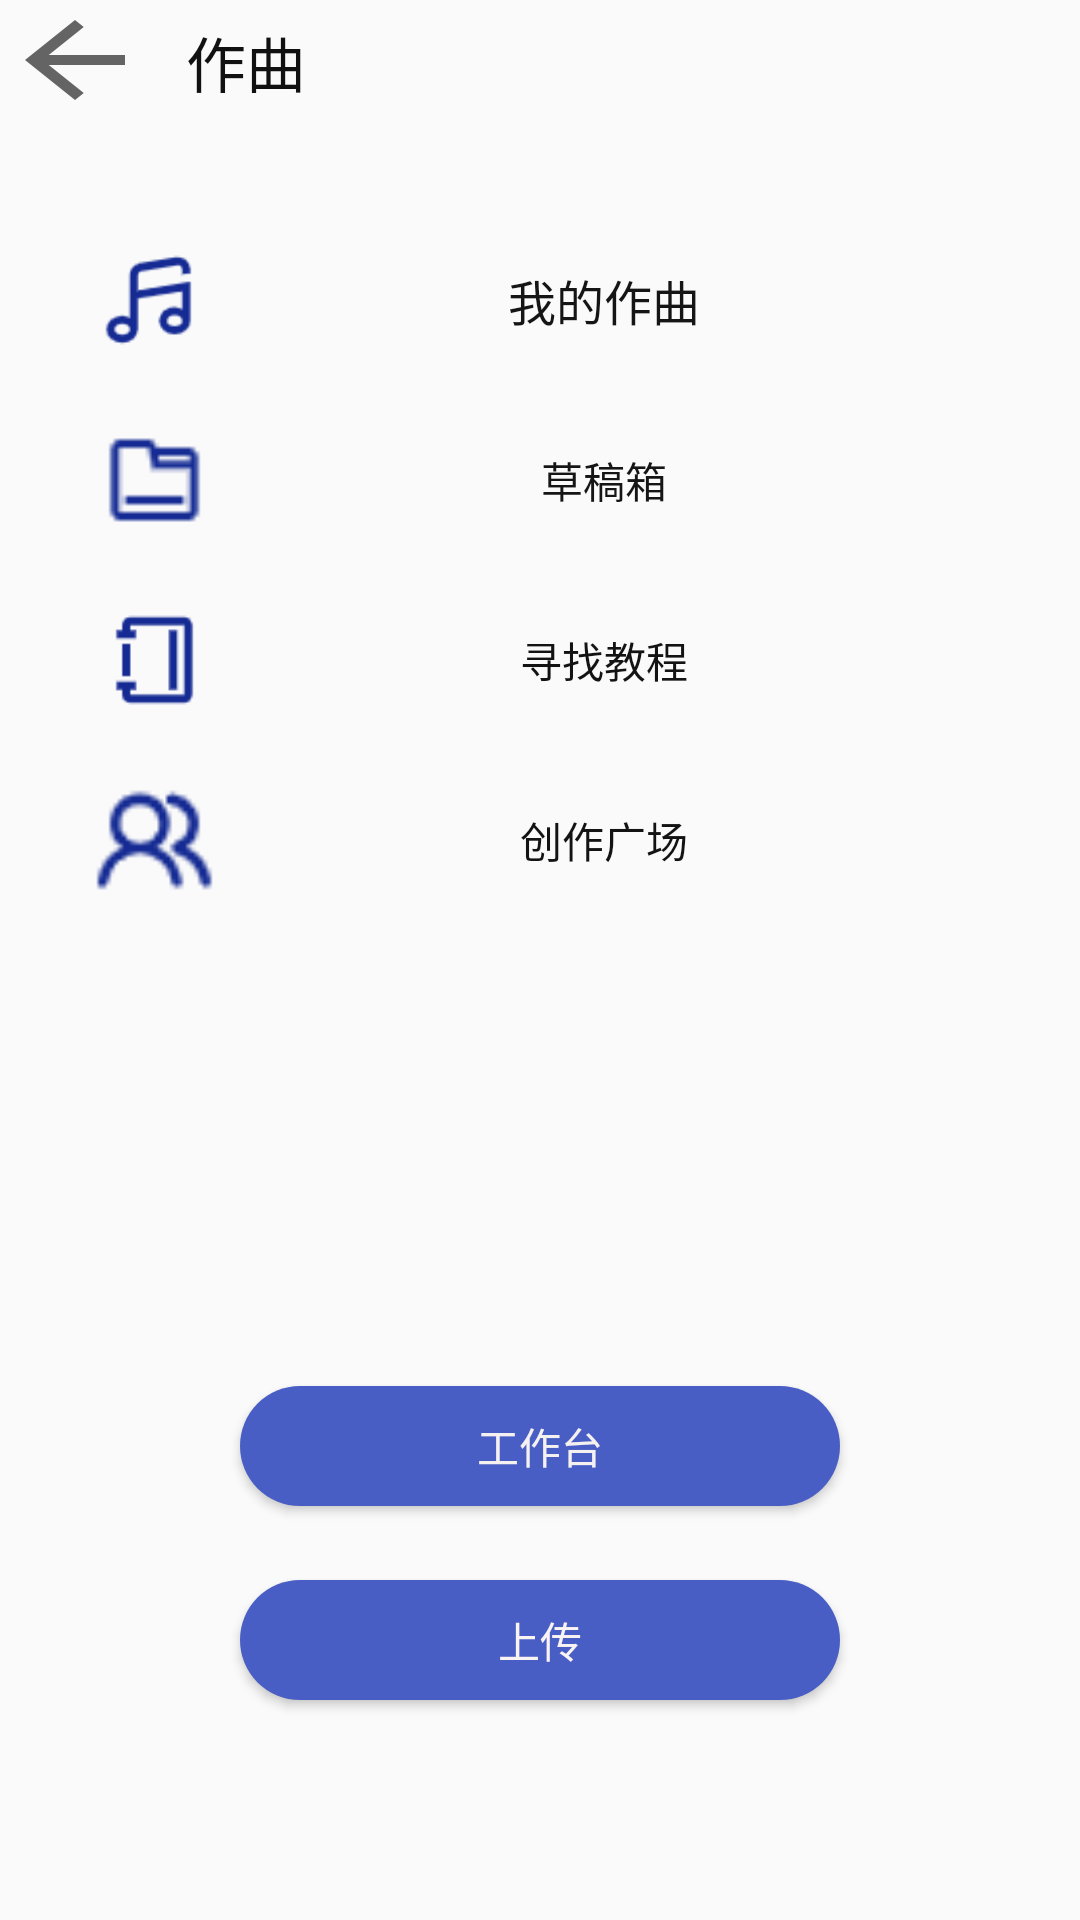

Where icons sit on this 1080px x 1920px app screen, as (x1, y1, x2, y2):
folder: (109, 438, 200, 522)
